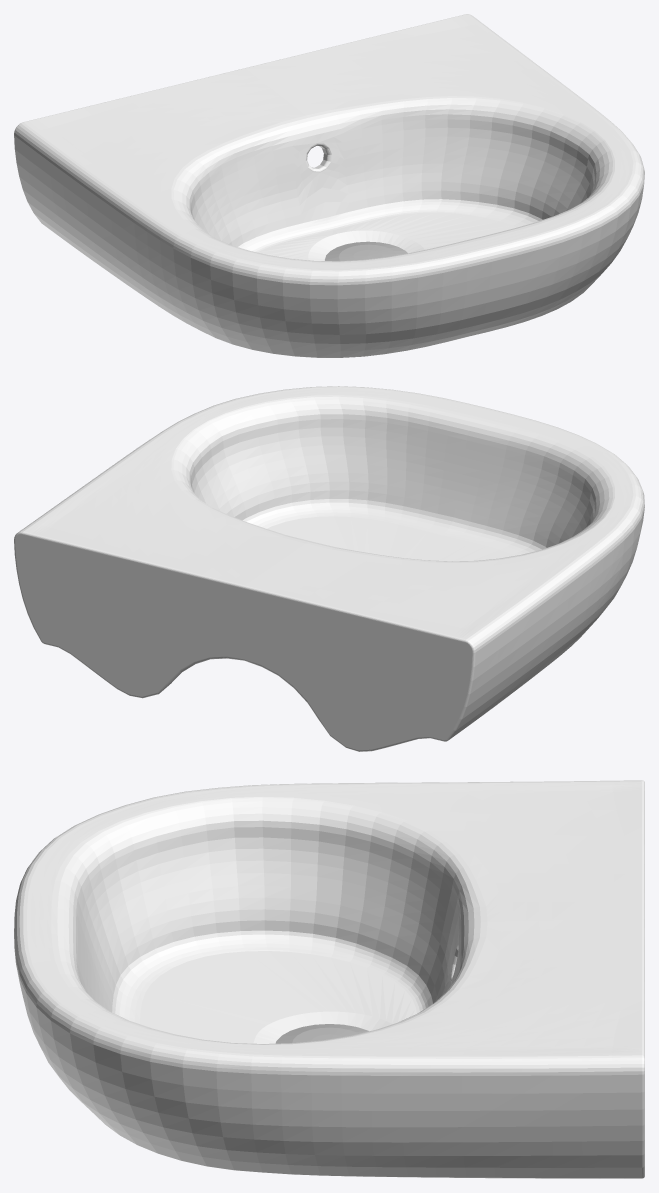
The model's file is AEC_30549.glb.
3 renders of one model, top to bottom at view 1: azimuth 30°, elevation 25°; view 2: azimuth 150°, elevation 25°; view 3: azimuth 270°, elevation 25°, orthographic. The views are drawn at different scales.
Parts seen in each view (by area): view 1: 0; view 2: 0; view 3: 0.
Boxes of the visible parts, box(x1,y1,x2,y2) form: 0: box(14, 14, 644, 357); 0: box(14, 386, 644, 751); 0: box(14, 780, 644, 1178).
Bounding box in the file's own units: 0.45 × 0.1371 × 0.4199.
Materials: 1 (1 with a texture image).
